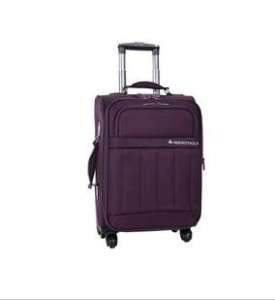luggage: (86, 40, 206, 248)
